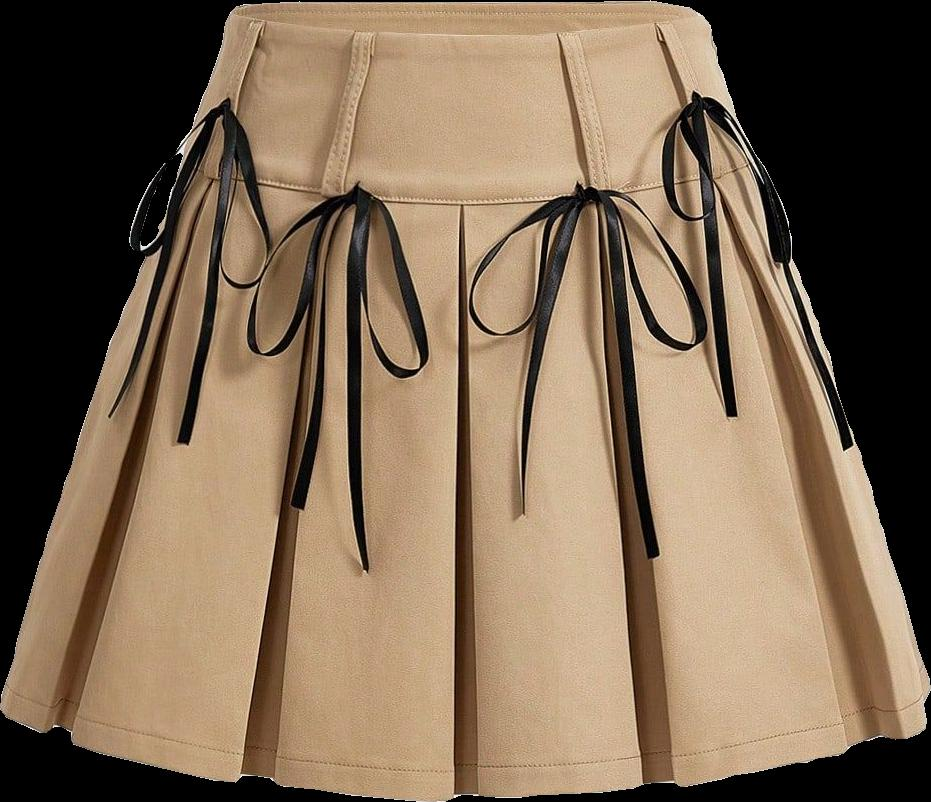Hemline: (0, 681, 930, 801)
Waistline: (182, 161, 757, 208), (231, 8, 699, 46)
